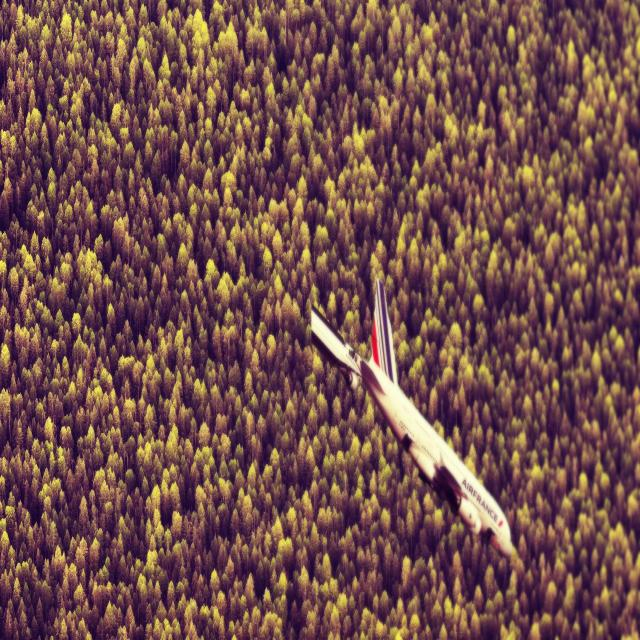airplane: (309, 277, 513, 559)
